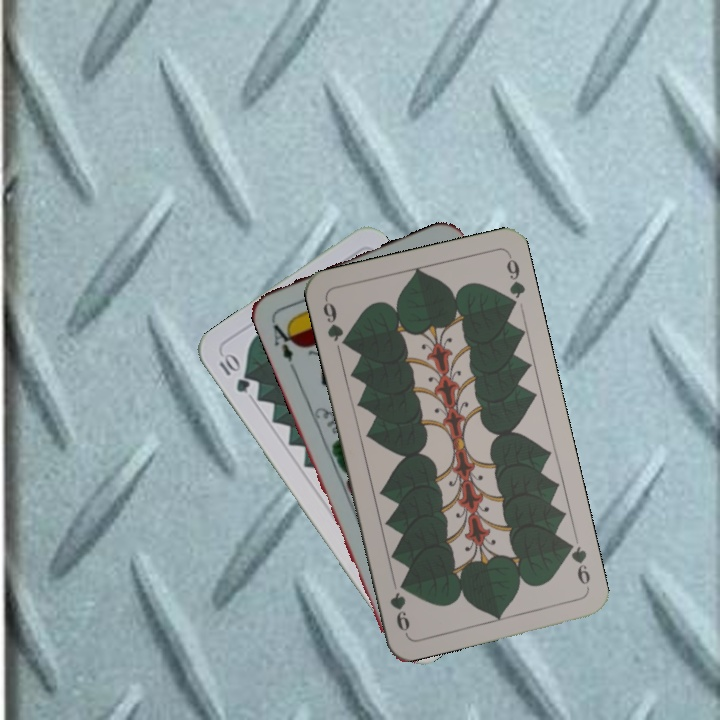EA: (267, 315, 300, 372)
G10: (215, 349, 253, 396)
G9: (318, 295, 352, 351), (561, 537, 593, 593)
